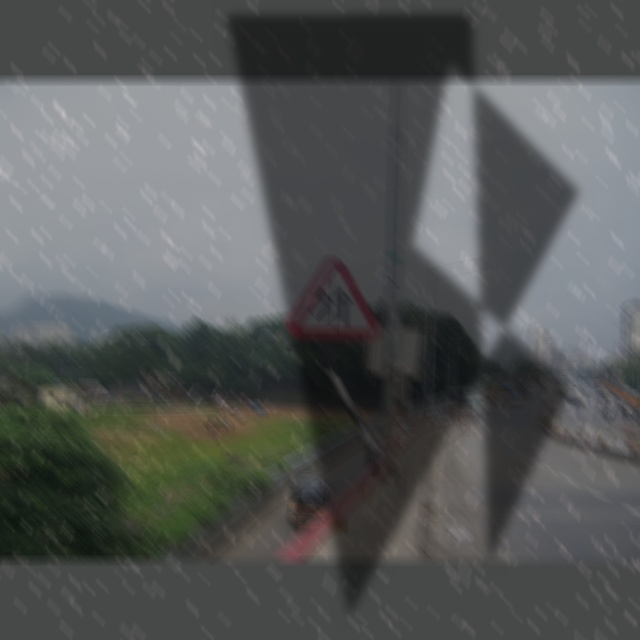Merge_Traffic_Ahead: (284, 249, 376, 347)
